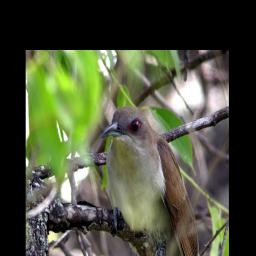Cuckoo: (101, 105, 199, 256)
